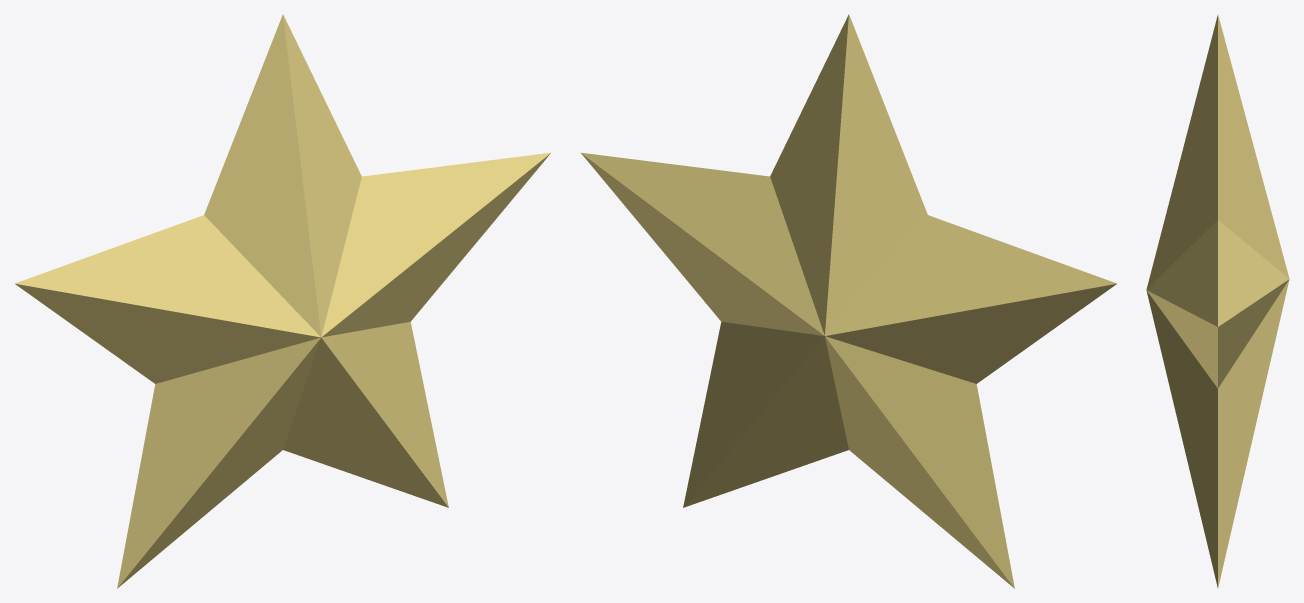
Rendered from star1.obj.
3 renders of one model, left to right at view 1: azimuth 30°, elevation 25°; view 2: azimuth 150°, elevation 25°; view 3: azimuth 270°, elevation 25°, orthographic. The views are drawn at different scales.
Parts seen in each view (by area): view 1: 円柱; view 2: 円柱; view 3: 円柱.
Part boxes in pixels (<box>): 円柱: <box>15,14,550,588</box>; 円柱: <box>581,14,1116,588</box>; 円柱: <box>1146,15,1289,587</box>.
Bounding box in the file's own units: 4 × 3.8 × 0.9885.
Materials: 1 (1 with a texture image).
